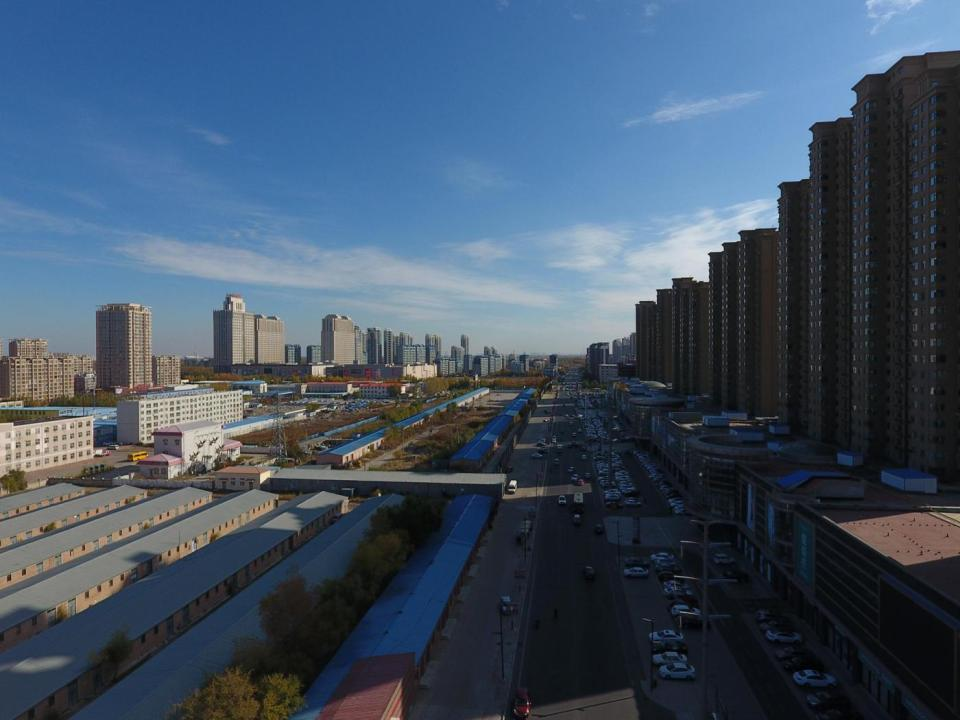bus: (127, 451, 149, 461), (573, 492, 584, 512), (508, 480, 517, 493), (592, 388, 603, 392)
car: (792, 670, 836, 688), (807, 692, 851, 710), (782, 657, 824, 671), (660, 663, 694, 680), (775, 648, 815, 662), (766, 629, 802, 644), (815, 709, 863, 720), (756, 608, 788, 624), (760, 619, 794, 634), (677, 614, 710, 629), (514, 688, 530, 718), (652, 641, 687, 654), (653, 653, 688, 666), (649, 630, 684, 642), (672, 606, 700, 620), (668, 599, 696, 613), (658, 571, 687, 584), (665, 587, 693, 600), (656, 565, 684, 578), (668, 591, 695, 604), (665, 581, 692, 594), (720, 570, 747, 583), (654, 559, 678, 571), (649, 553, 673, 564), (623, 568, 649, 578), (624, 558, 650, 567), (500, 596, 513, 614), (715, 554, 735, 564), (674, 508, 693, 516), (674, 505, 693, 513), (668, 496, 686, 504), (666, 493, 684, 501), (664, 491, 682, 499), (663, 489, 681, 497), (660, 486, 678, 494), (659, 484, 677, 492), (655, 481, 673, 489), (605, 501, 622, 509), (584, 567, 595, 579), (624, 490, 640, 498), (670, 502, 688, 509), (642, 457, 657, 465), (604, 489, 620, 496), (654, 476, 670, 483), (634, 449, 648, 457), (636, 451, 650, 459), (642, 461, 657, 468), (639, 455, 654, 462), (625, 500, 642, 506), (619, 485, 636, 491), (618, 482, 635, 488), (614, 474, 631, 480), (650, 474, 664, 481), (647, 465, 661, 472), (645, 463, 659, 470), (640, 457, 654, 464), (626, 497, 642, 503), (622, 488, 638, 494), (604, 495, 620, 501), (616, 474, 632, 480), (606, 450, 622, 456), (608, 452, 624, 458), (652, 472, 668, 478), (650, 468, 666, 474), (599, 470, 614, 476), (597, 468, 612, 474), (595, 462, 610, 468), (615, 470, 630, 476), (651, 470, 666, 476), (606, 492, 620, 498), (602, 482, 616, 488), (598, 474, 612, 480), (598, 468, 612, 474), (598, 465, 612, 471), (596, 464, 610, 470), (597, 460, 611, 466), (611, 456, 625, 462), (610, 454, 624, 460), (558, 495, 566, 505), (618, 480, 634, 485), (616, 476, 632, 481), (595, 524, 603, 534), (599, 463, 612, 469), (573, 514, 580, 525), (600, 480, 614, 485), (613, 463, 627, 468), (612, 462, 626, 467), (594, 452, 605, 458), (594, 450, 605, 456), (612, 461, 625, 466), (593, 456, 605, 461), (532, 453, 542, 458), (572, 474, 580, 480), (612, 458, 624, 462), (505, 466, 513, 472), (103, 442, 114, 446), (538, 450, 549, 454), (568, 467, 575, 473), (537, 437, 546, 441), (538, 446, 547, 450), (584, 473, 590, 478), (568, 414, 576, 417), (538, 440, 546, 443), (536, 442, 544, 445), (538, 443, 545, 446), (568, 443, 572, 448), (582, 455, 586, 460), (542, 419, 548, 422), (577, 414, 583, 417), (560, 430, 564, 434), (569, 422, 573, 426), (578, 428, 582, 432), (572, 432, 576, 436), (552, 436, 556, 440), (552, 439, 556, 443), (606, 419, 610, 423), (570, 441, 574, 445), (574, 442, 578, 446), (582, 444, 586, 448), (582, 446, 586, 450), (575, 416, 580, 419), (605, 417, 609, 420), (581, 442, 584, 446), (562, 404, 565, 407), (565, 414, 568, 417), (544, 409, 547, 412), (575, 407, 578, 410), (546, 412, 549, 414), (567, 417, 569, 420), (576, 412, 579, 414), (576, 409, 578, 412), (559, 413, 561, 415), (568, 399, 569, 402)
truck: (91, 450, 102, 458), (101, 451, 112, 456), (557, 444, 562, 453)
van: (106, 444, 119, 449), (554, 458, 559, 466), (578, 478, 584, 484)
